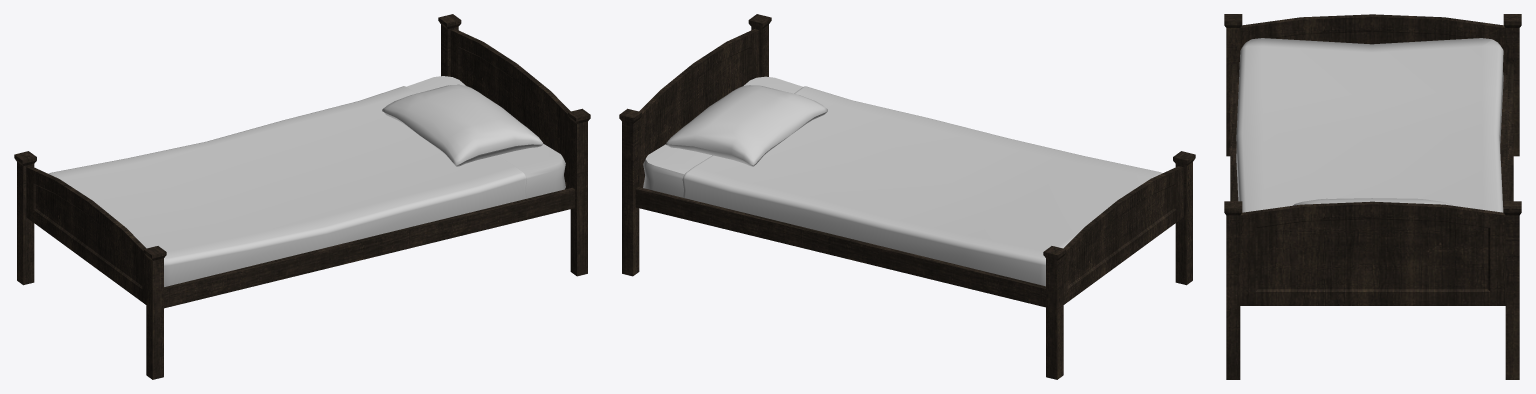
The model's file is bed_5_2.obj.
3 renders of one model, left to right at view 1: azimuth 30°, elevation 25°; view 2: azimuth 150°, elevation 25°; view 3: azimuth 270°, elevation 25°, orthographic. The views are drawn at different scales.
Visible parts, largest first — view 1: bed_5_2; view 2: bed_5_2; view 3: bed_5_2.
Part boxes in pixels (box(x1,y1,x2,y2)): bed_5_2: box(14, 14, 590, 379); bed_5_2: box(619, 14, 1195, 379); bed_5_2: box(1224, 14, 1521, 379).
Bounding box in the file's own units: 2.74 × 0.9621 × 1.49.
